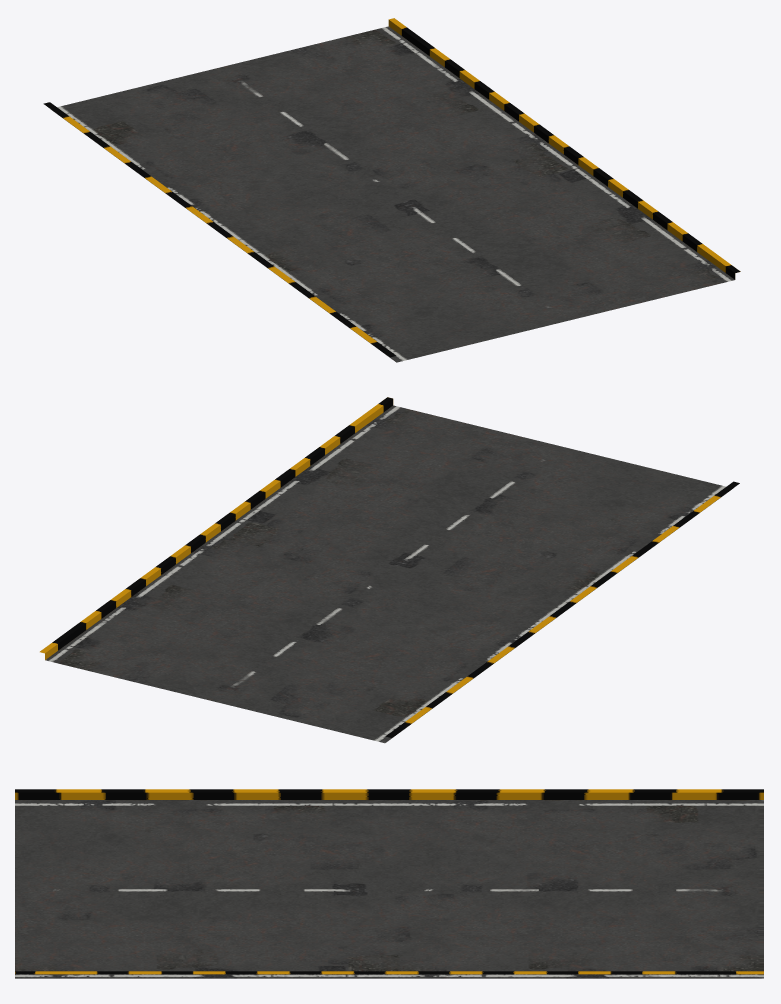
The model's file is road.glb.
3 views of the same model, one above another, from view 1: azimuth 30°, elevation 25°; view 2: azimuth 150°, elevation 25°; view 3: azimuth 270°, elevation 25° (orthographic). The views are drawn at different scales.
Parts seen in each view (by area): view 1: Plane; view 2: Plane; view 3: Plane.
Part boxes in pixels (box(x1,y1,x2,y2)): Plane: box(43, 18, 740, 362); Plane: box(40, 397, 739, 743); Plane: box(15, 789, 763, 978).
Bounding box in the file's own units: 312 × 5.03 × 466.
1 material, 1 textured.
